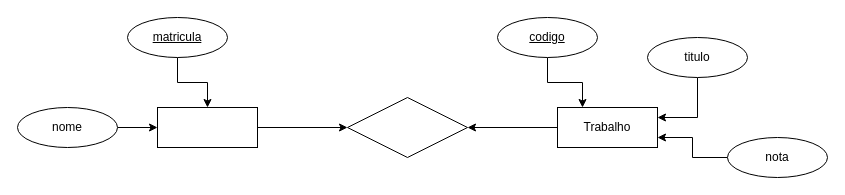
Image size: 845x195. Some labels were removed from this diagram. The centre of each missing label's shape, as x and y in pixels:
Aluno: [207,127]
Realizar: [407,127]
